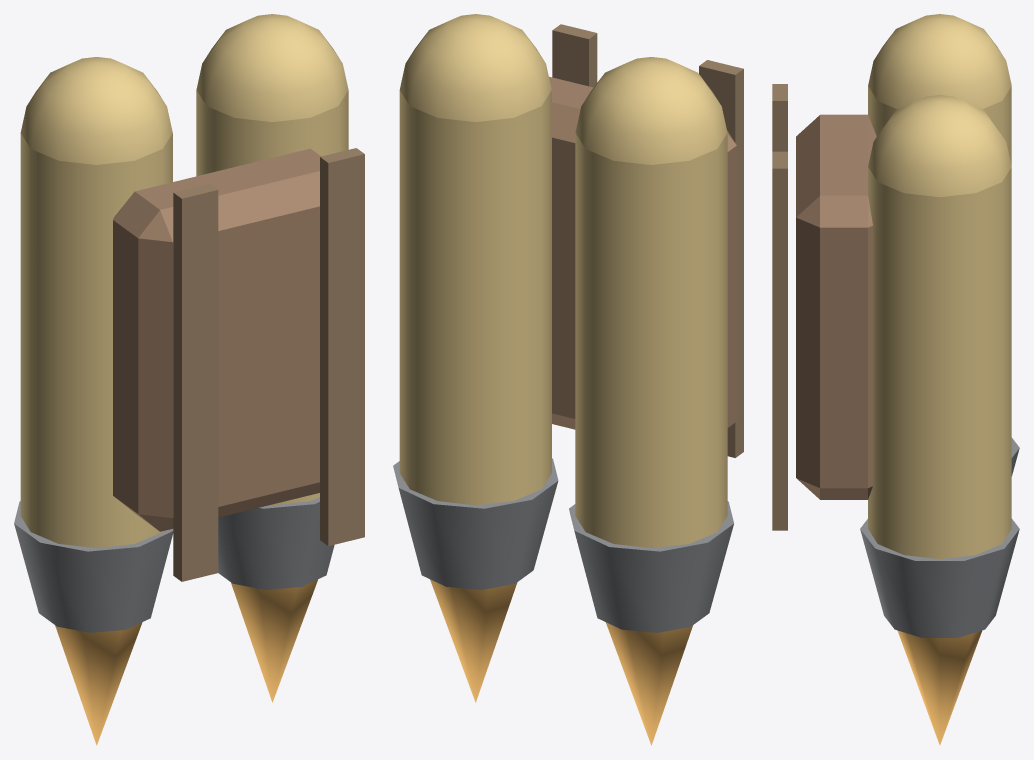
Rendered from hd_jetpack.glb.
The picture shows the model from 3 angles, left to right: view 1: azimuth 30°, elevation 25°; view 2: azimuth 150°, elevation 25°; view 3: azimuth 270°, elevation 25°; orthographic projection. The views are drawn at different scales.
Visible parts, largest first — view 1: hd_jetpack; view 2: hd_jetpack; view 3: hd_jetpack.
Part boxes in pixels (x1,y1,x2,y2): hd_jetpack: [14, 14, 364, 745]; hd_jetpack: [393, 14, 743, 745]; hd_jetpack: [772, 14, 1019, 745].
Size of the model in its own units: 0.4302 by 0.89 by 0.31.
